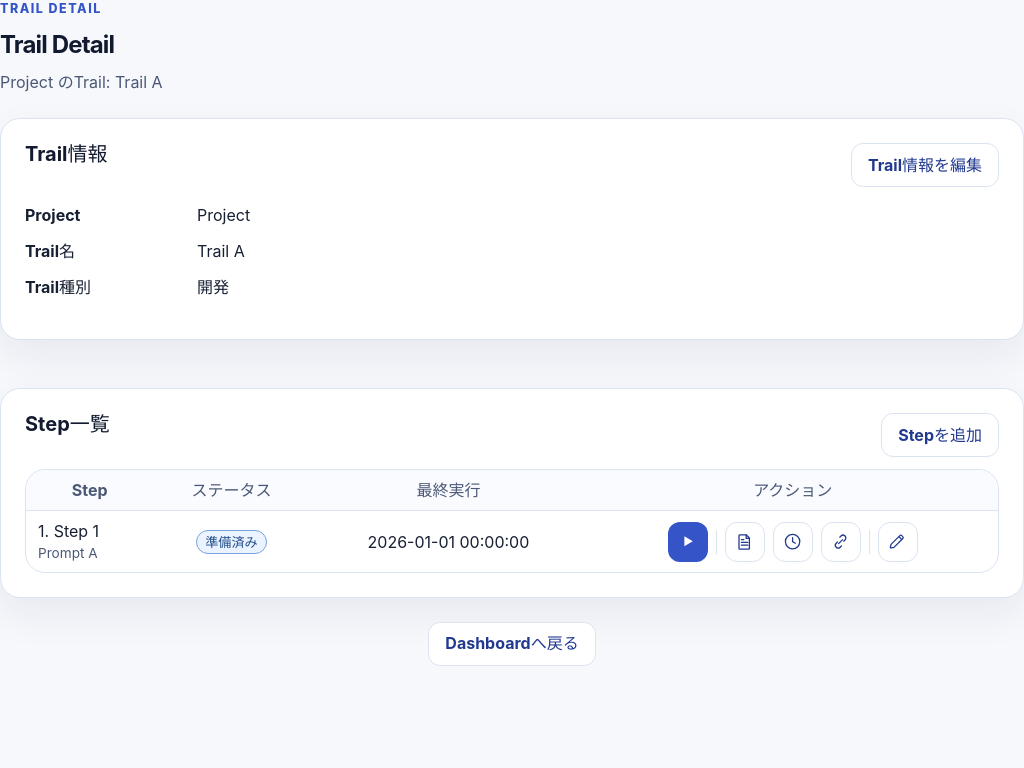
Test: TrailDetailPage › opens and closes the related Link information accessibly
Click the button named "関連リンクを表示" at point(841, 542), box [821,522,861,562]
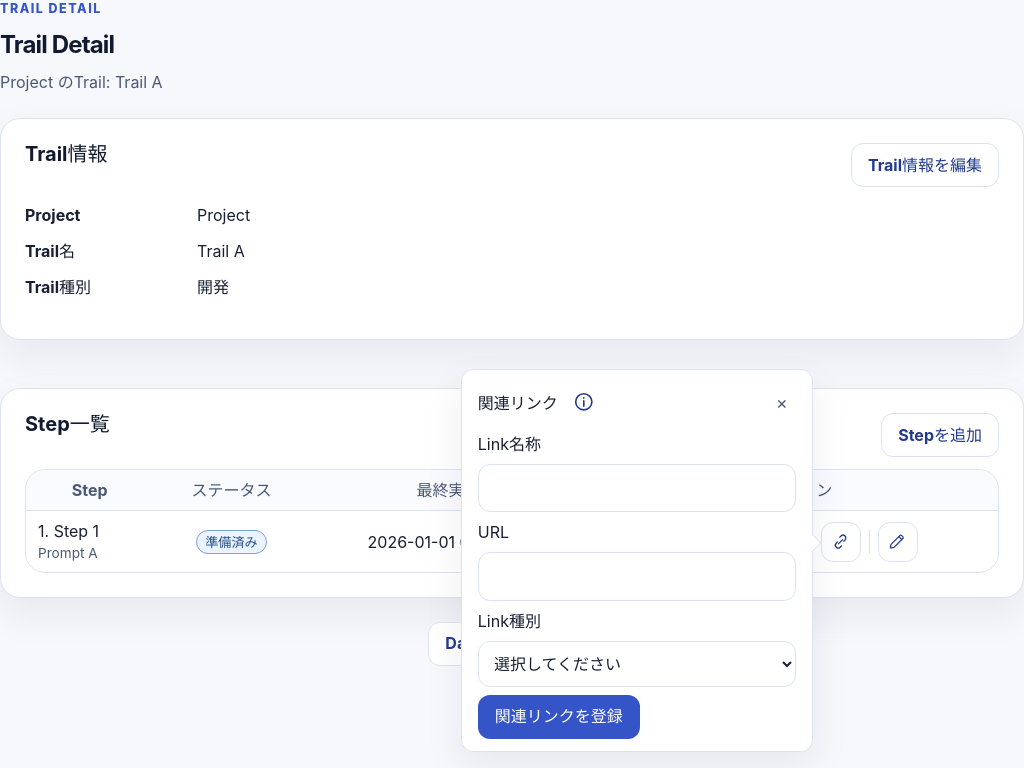
Click the button named "関連リンクについて" at point(584, 402), box [562,380,606,424]
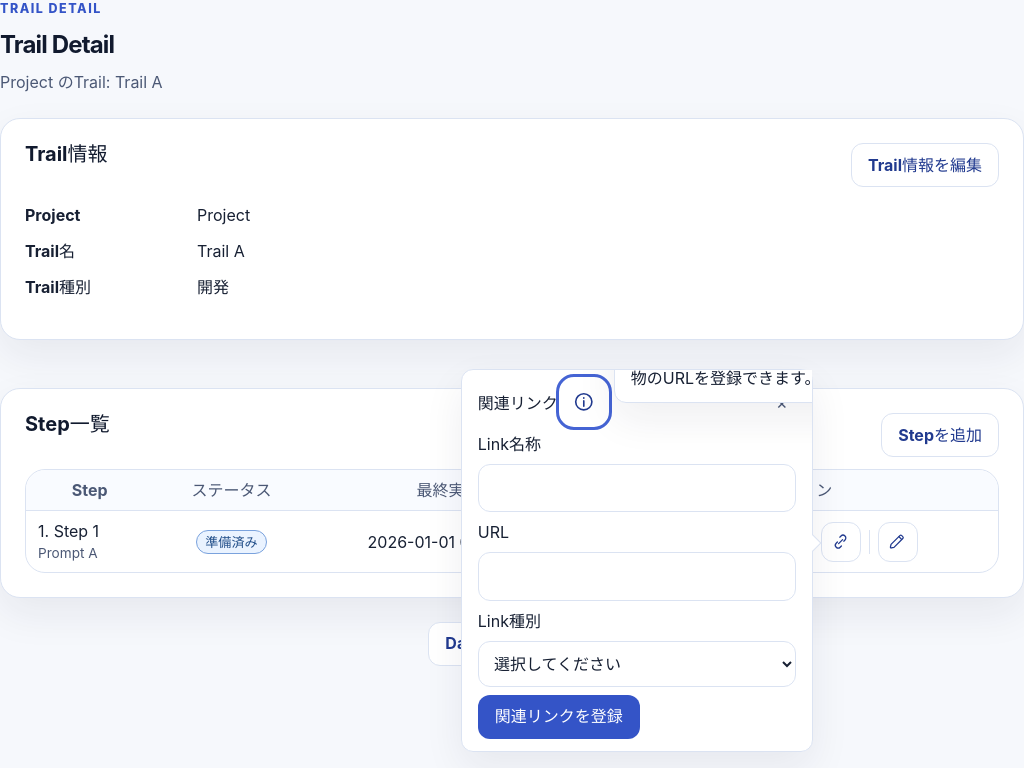
Press Escape
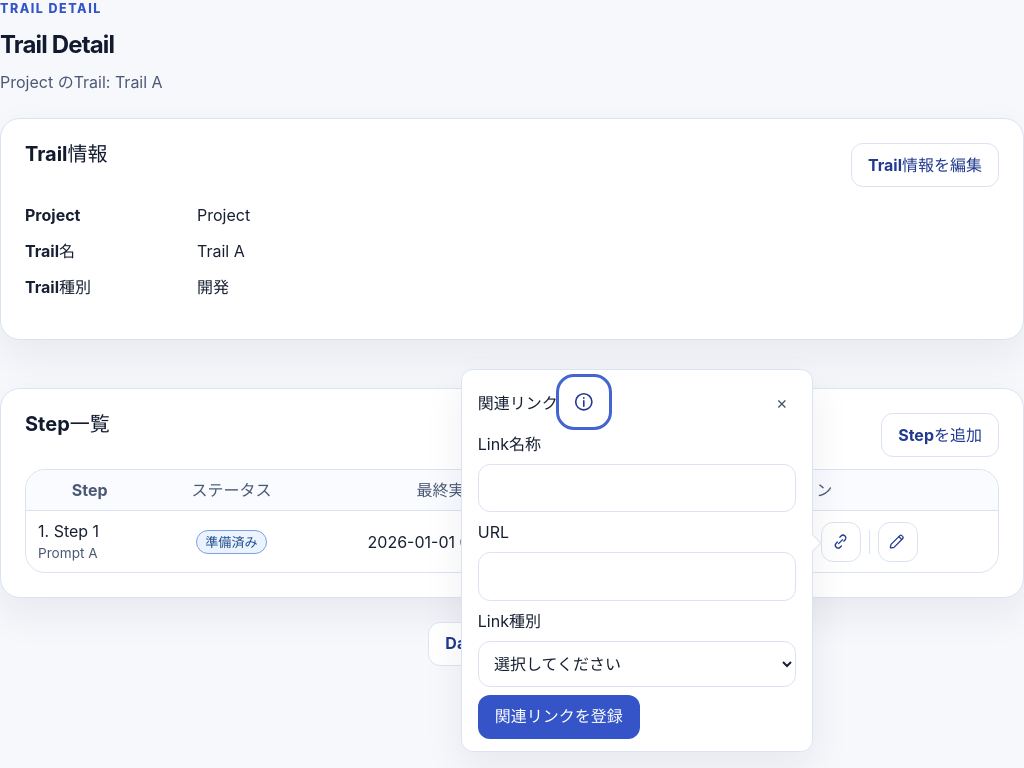
Click the button named "関連リンクについて" at point(584, 402), box [562,380,606,424]
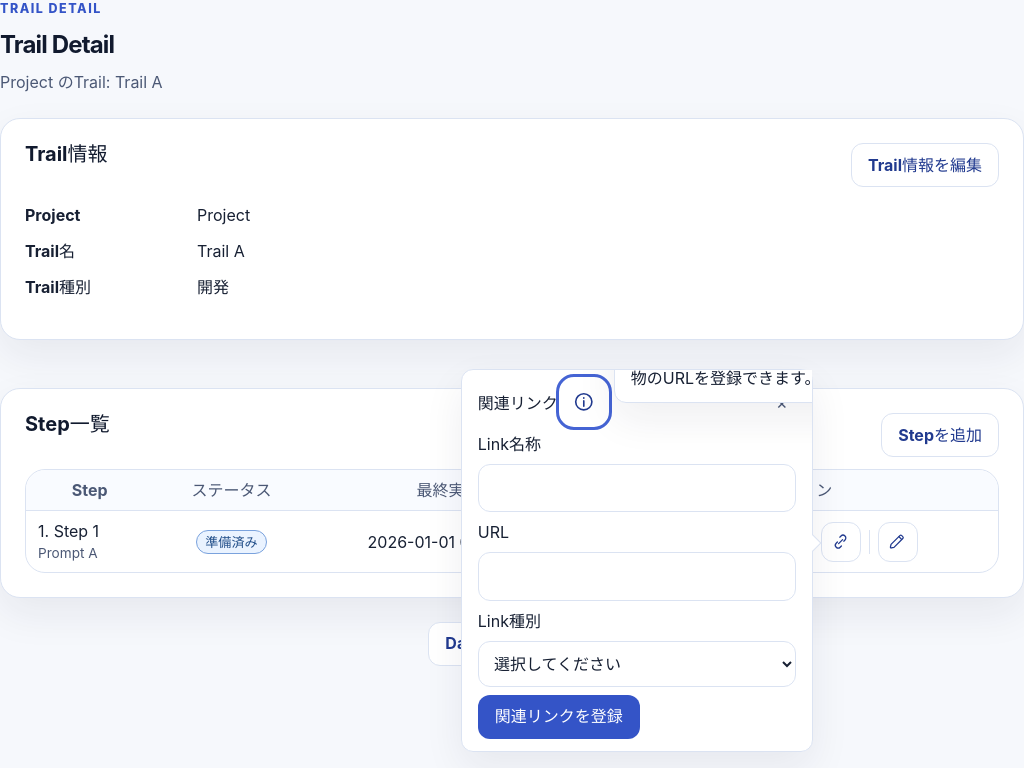
Press the mouse on the element that starts with "Trail Detail" at point(512, 384), box [0,0,1023,767]
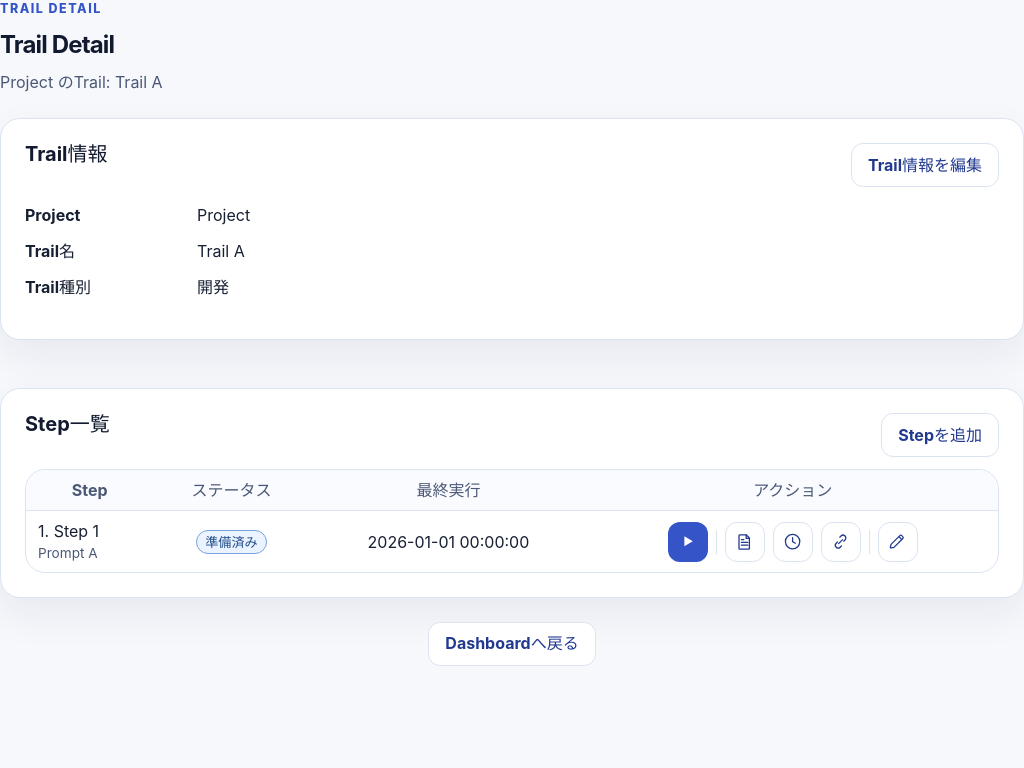
Expected: the button "関連リンクについて" is gone
